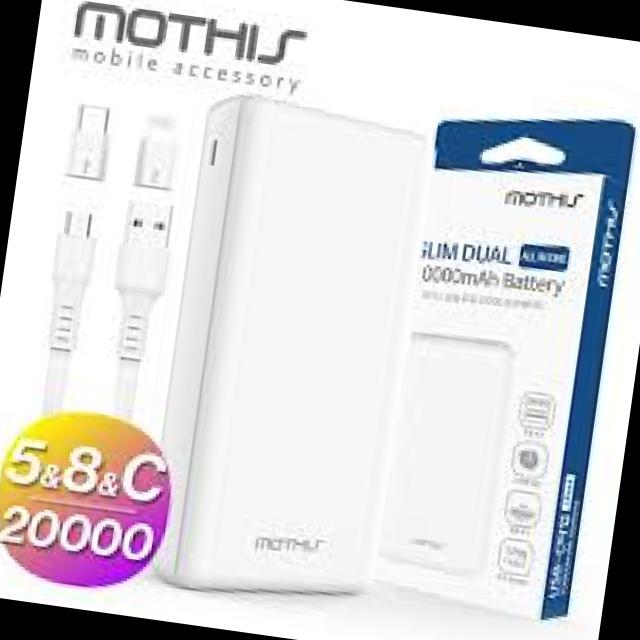portable-charger: (138, 90, 438, 608), (366, 322, 520, 584)
